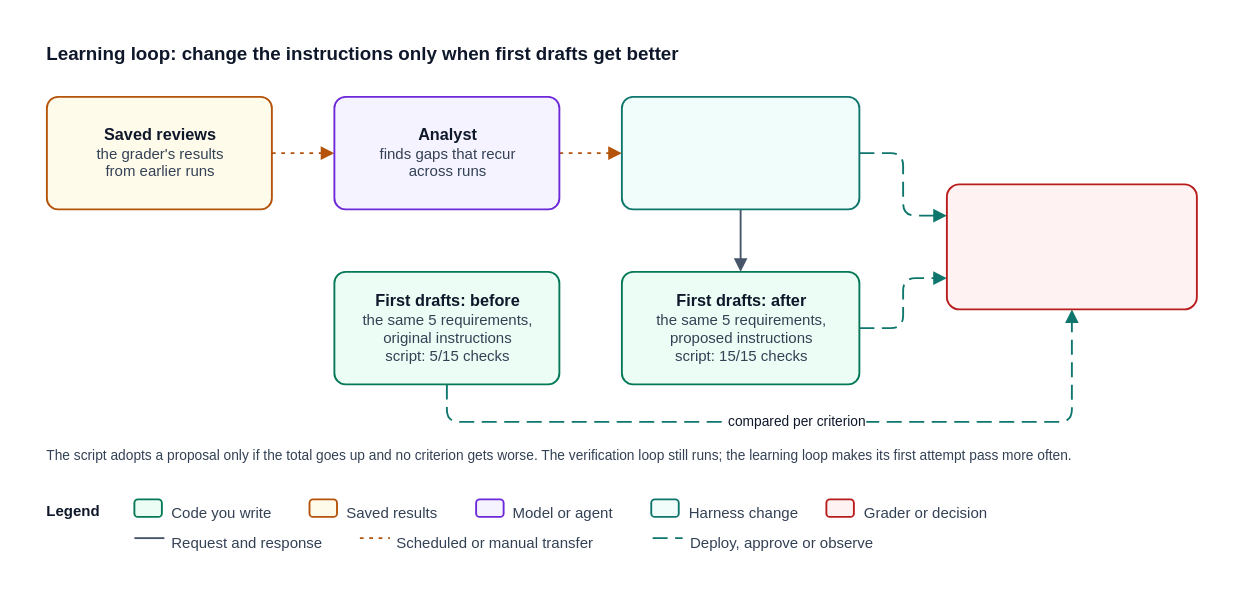
The diagram is 1243 pixels wide and 590 high, and some of its shapes have lost their labels. The centre of each missing label's shape, as x and y in pixels:
"Decision record update or keep, the reason, the comparison, the outcome" goes at (x=1071, y=246).
"Proposed instructions one change per recurring gap" goes at (x=740, y=152).
